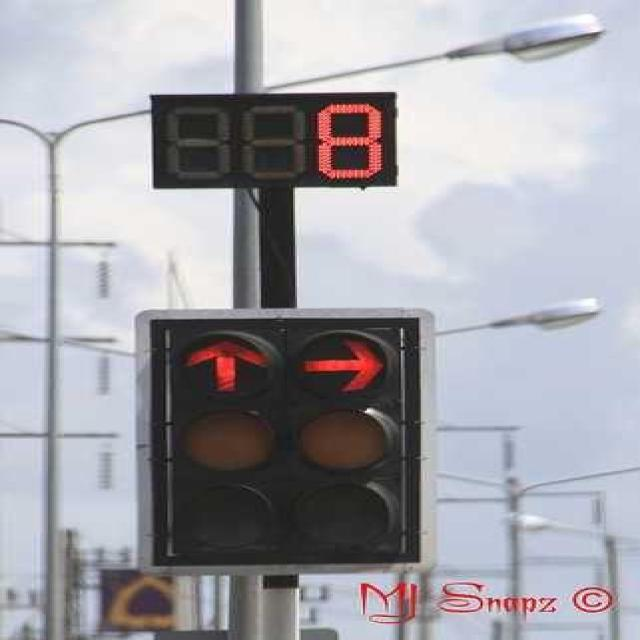Traffic Light -Red-: (132, 305, 292, 579), (287, 305, 445, 573)
